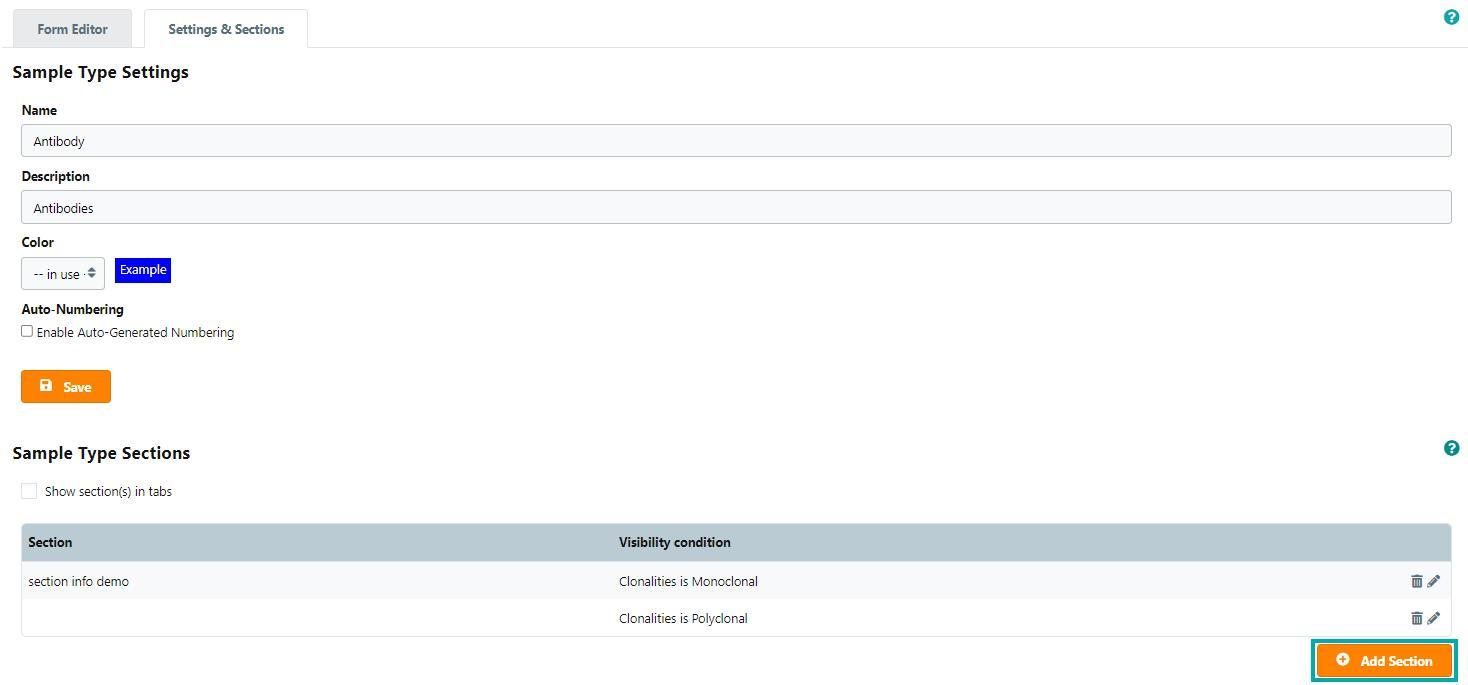button: (145, 10, 310, 47), (1317, 644, 1454, 679), (15, 11, 132, 47), (22, 371, 112, 404), (115, 260, 173, 285)
checkbox: (21, 483, 40, 501), (20, 324, 37, 340)
dropdown: (22, 258, 106, 291)
icon: (1442, 440, 1464, 458), (1426, 609, 1445, 628), (1442, 10, 1463, 27), (1409, 575, 1426, 591), (1427, 574, 1443, 591), (1411, 611, 1425, 626)
input: (23, 122, 1451, 158), (21, 192, 1453, 224)
label: (5, 58, 198, 88), (36, 323, 237, 345), (8, 445, 195, 464), (45, 484, 176, 501), (22, 301, 129, 319), (21, 169, 97, 185), (20, 104, 68, 121), (21, 235, 60, 253)
